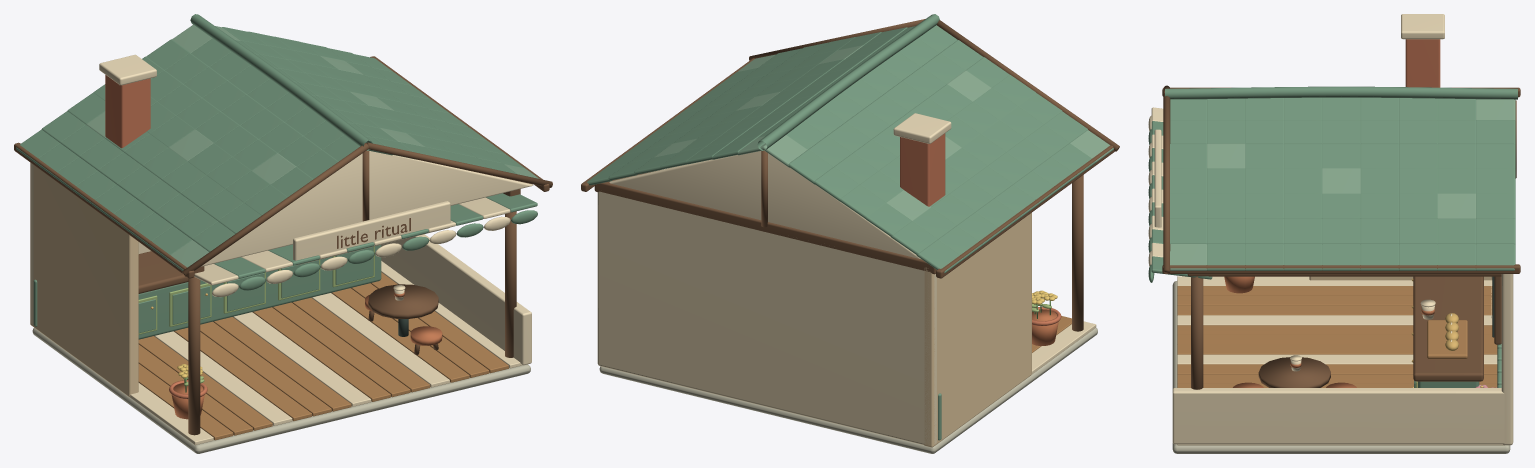
The model's file is cafe.glb.
3 renders of one model, left to right at view 1: azimuth 30°, elevation 25°; view 2: azimuth 150°, elevation 25°; view 3: azimuth 270°, elevation 25°, orthographic.
Parts seen in each view (by area): view 1: cafe_Cutaway_Mesh, cafe_World_Mesh, Planter_Mesh; view 2: cafe_World_Mesh, cafe_Cutaway_Mesh, Planter_Mesh; view 3: cafe_Cutaway_Mesh, cafe_World_Mesh, Planter_Mesh.
Boxes of the visible parts, x1,y1,x2,y2 form: cafe_Cutaway_Mesh: (14,14,552,297); cafe_World_Mesh: (30,163,531,453); Planter_Mesh: (169,364,207,419); cafe_World_Mesh: (594,171,1097,453); cafe_Cutaway_Mesh: (581,14,1119,278); Planter_Mesh: (1032,290,1061,345); cafe_Cutaway_Mesh: (1148,14,1520,282); cafe_World_Mesh: (1172,274,1513,453); Planter_Mesh: (1224,276,1254,293).
Bounding box in the file's own units: 7.47 × 5.54 × 6.39.
